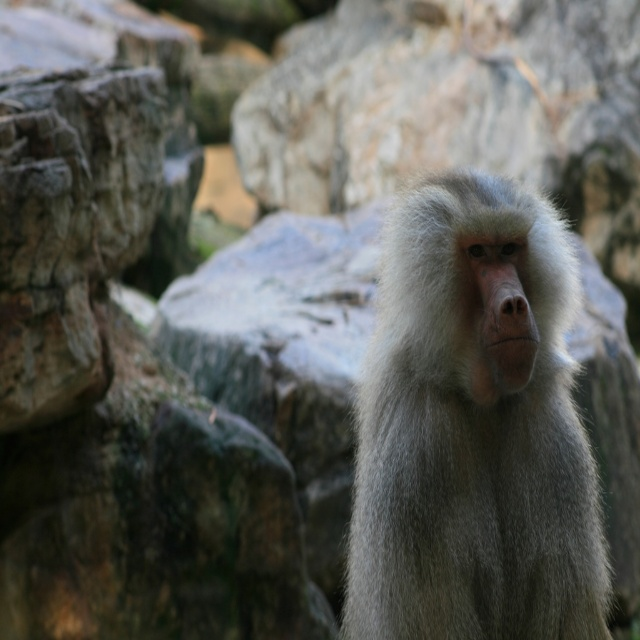Monkey: (341, 172, 614, 638)
